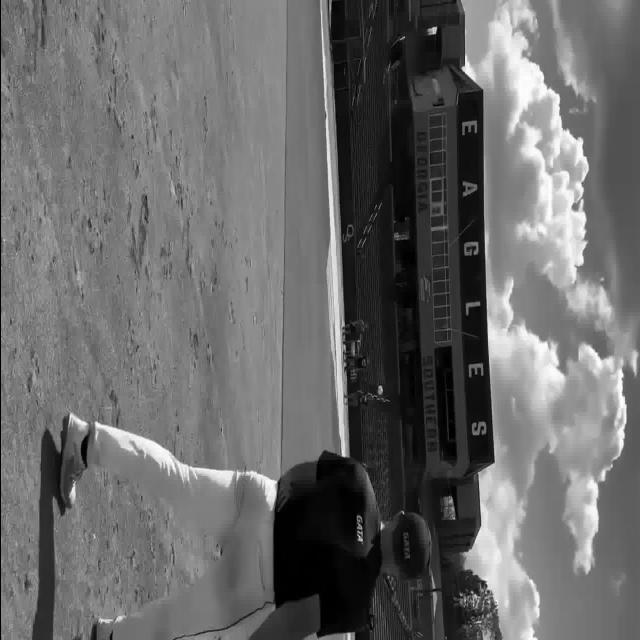baseball: (376, 385, 382, 396)
shoe: (58, 413, 88, 509), (91, 616, 122, 640)
